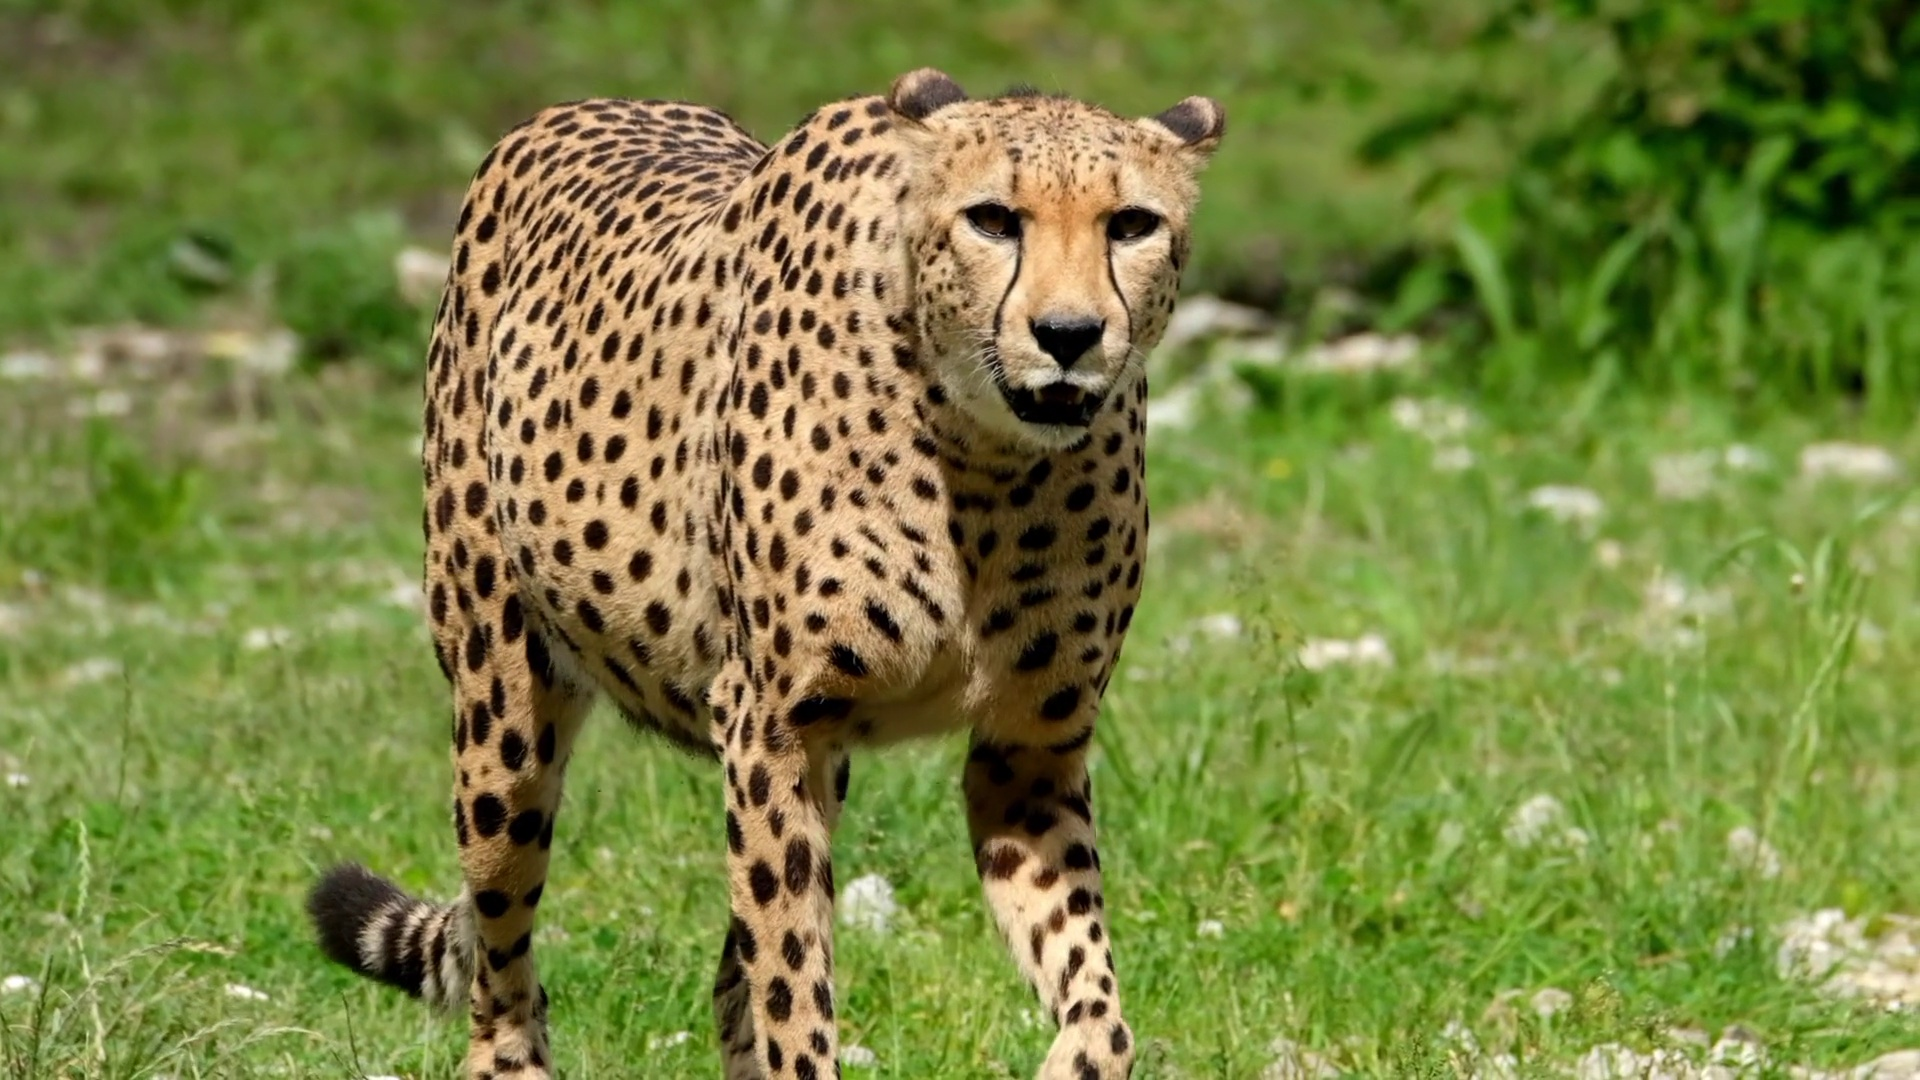Cheetah: (294, 54, 1222, 1080)
